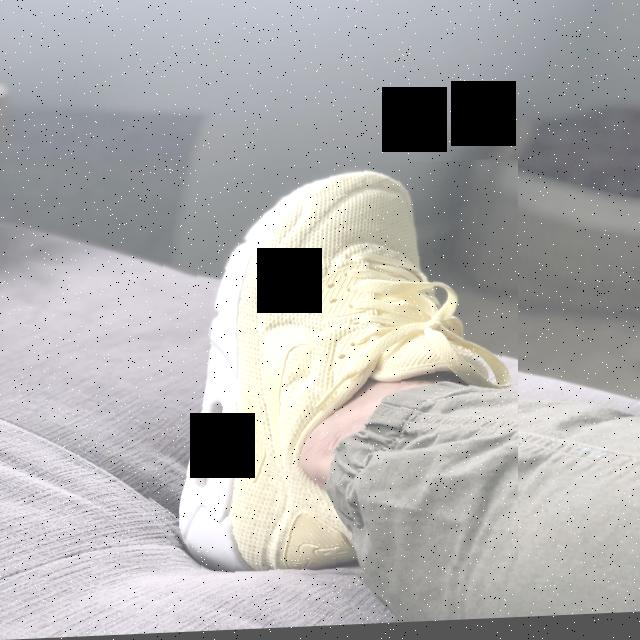shoe: (144, 163, 518, 590)
